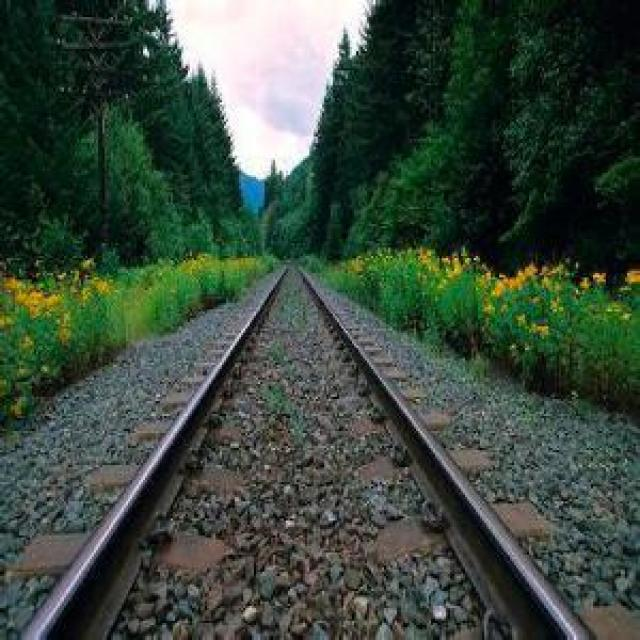rail: (0, 263, 624, 640)
